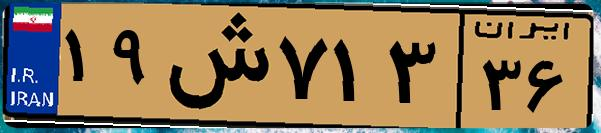1: (330, 28, 385, 110), (57, 26, 110, 100)
3: (385, 28, 445, 110), (475, 38, 525, 113)
6: (525, 38, 570, 115)
7: (270, 28, 330, 110)
9: (110, 28, 158, 98)
ش: (158, 12, 270, 120)
